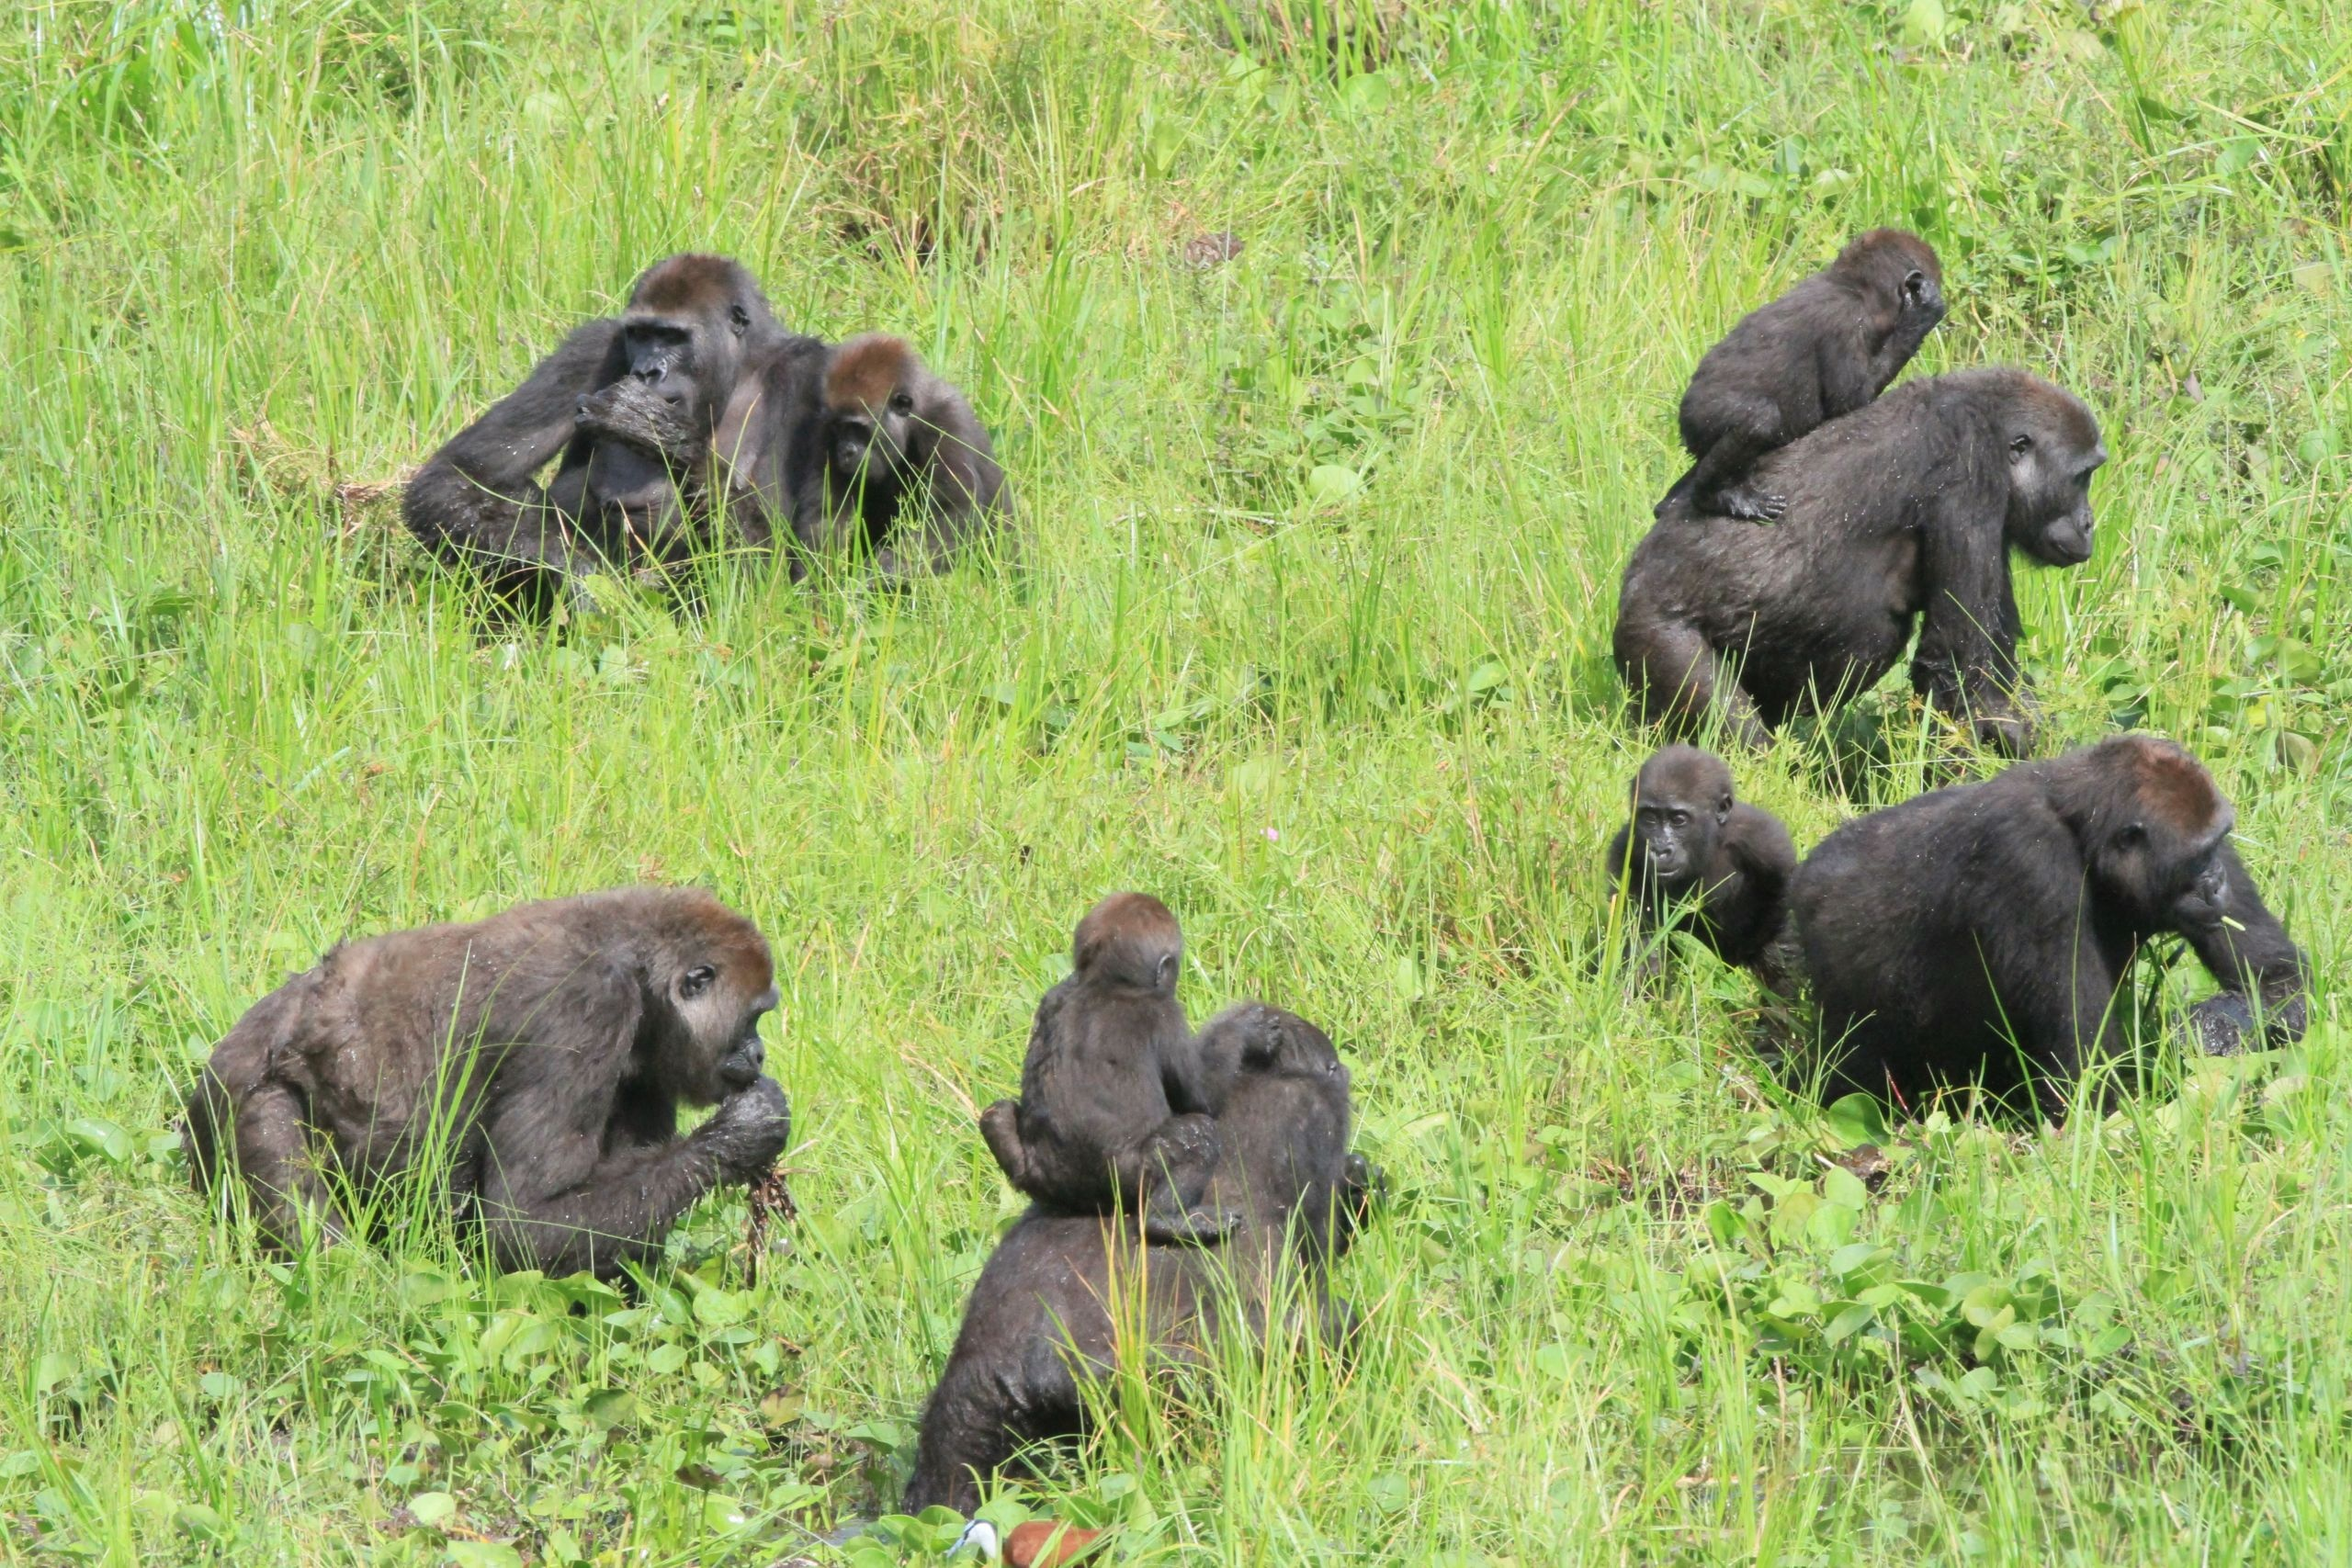gorilla: (178, 880, 835, 1300), (899, 992, 1389, 1515), (1605, 364, 2116, 794), (1780, 723, 2331, 1102), (397, 236, 843, 639), (982, 870, 1290, 1244), (1676, 219, 1953, 522), (819, 315, 1020, 625), (1594, 735, 1797, 1006)
